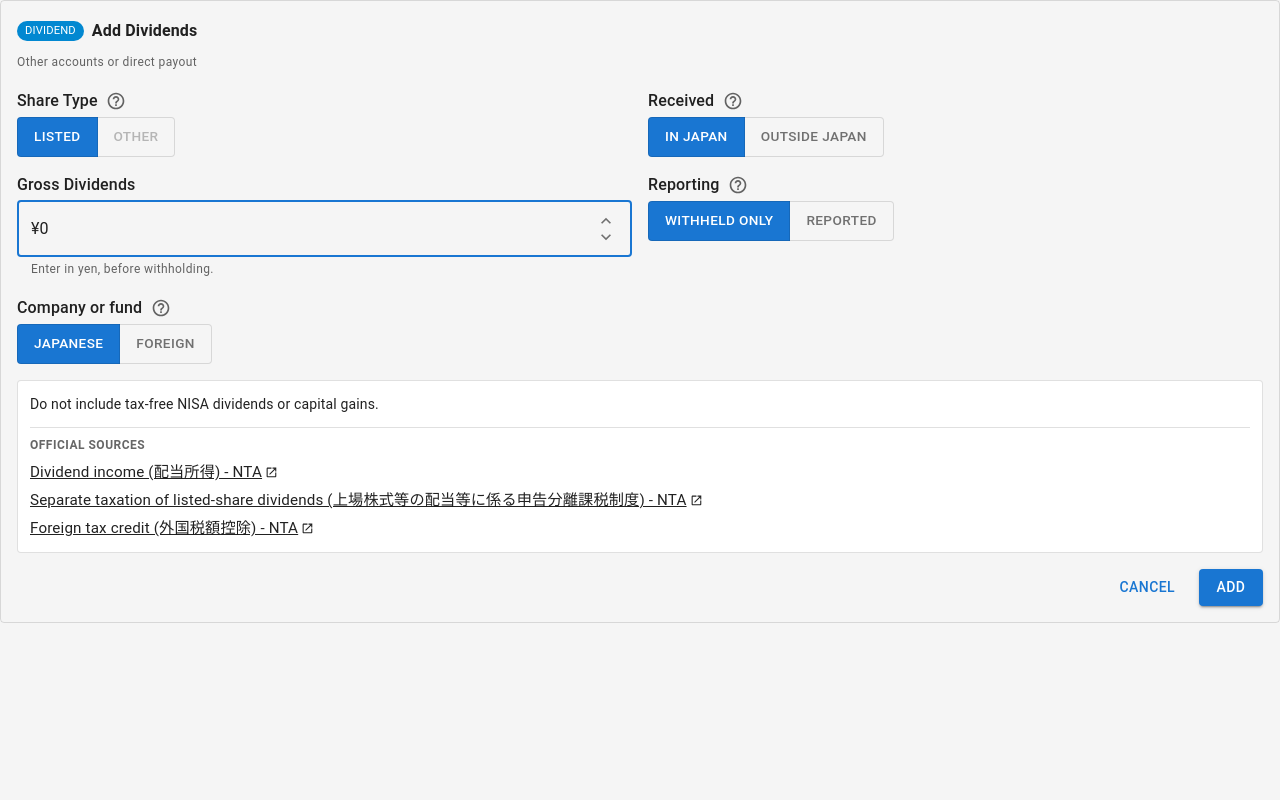
Test case: IncomeStreamForm › explains the disabled Withheld only button only for a dividend received outside Japan
The image size is (1280, 800).
Expected: the text "A dividend received outside Japan must be reported." is not shown
Click the button "Outside Japan": [814, 137] box [744,117,884,157]
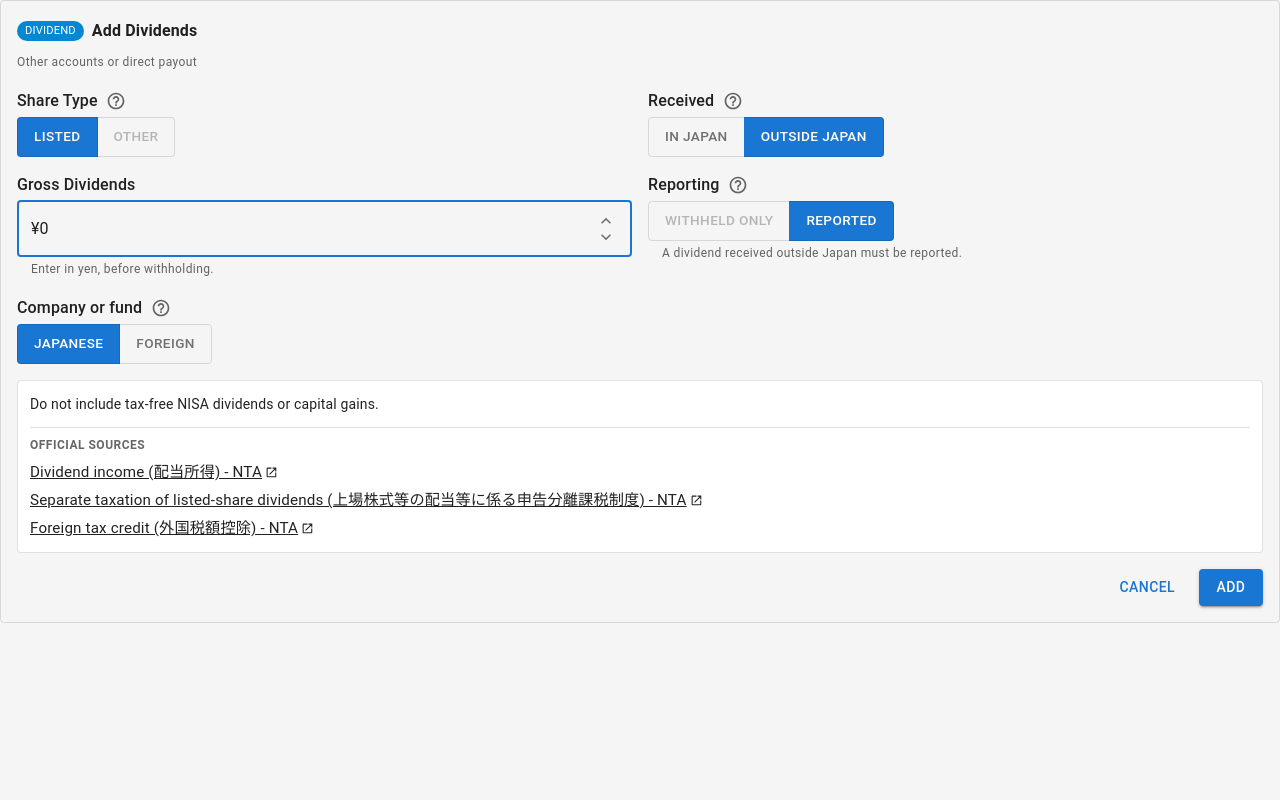
Now the text "A dividend received outside Japan must be reported." is shown, box [662,246,962,260]
Click the button "In Japan": [696, 137] box [648,117,745,157]
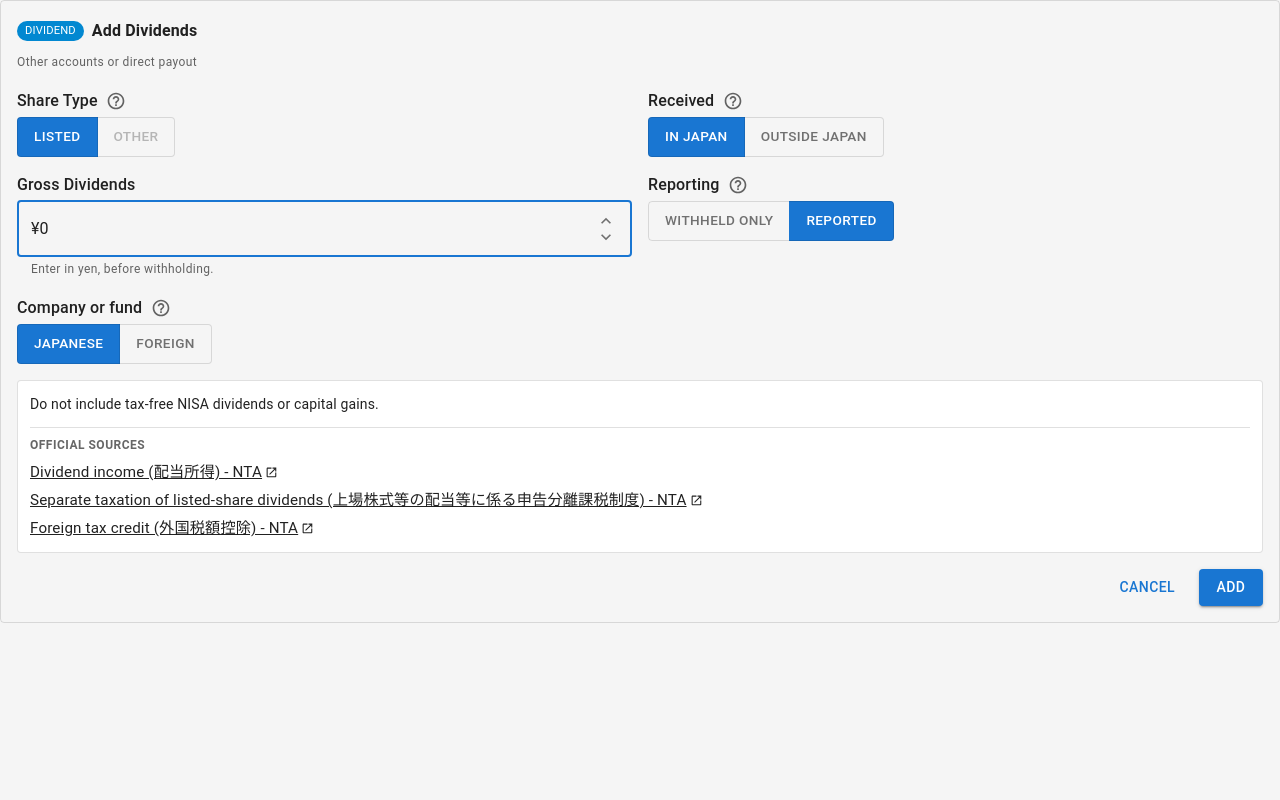
Now the text "A dividend received outside Japan must be reported." is gone
